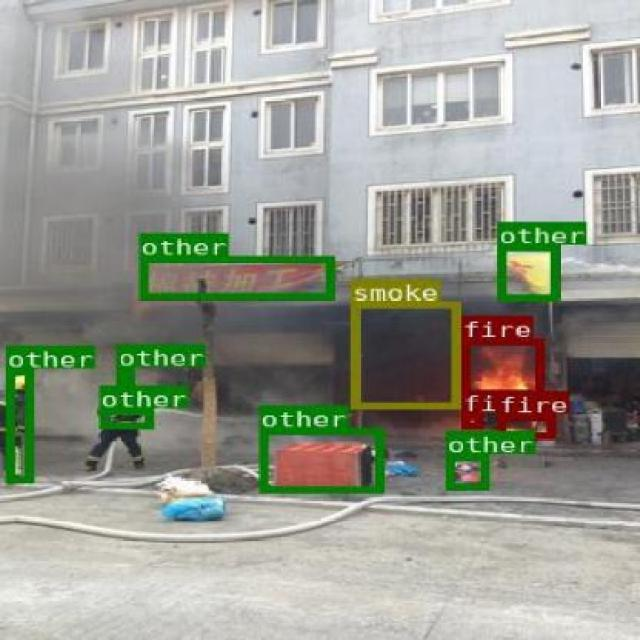Fire: (460, 336, 542, 402), (496, 413, 554, 438), (459, 410, 481, 428)
Smoke: (350, 300, 458, 408)
